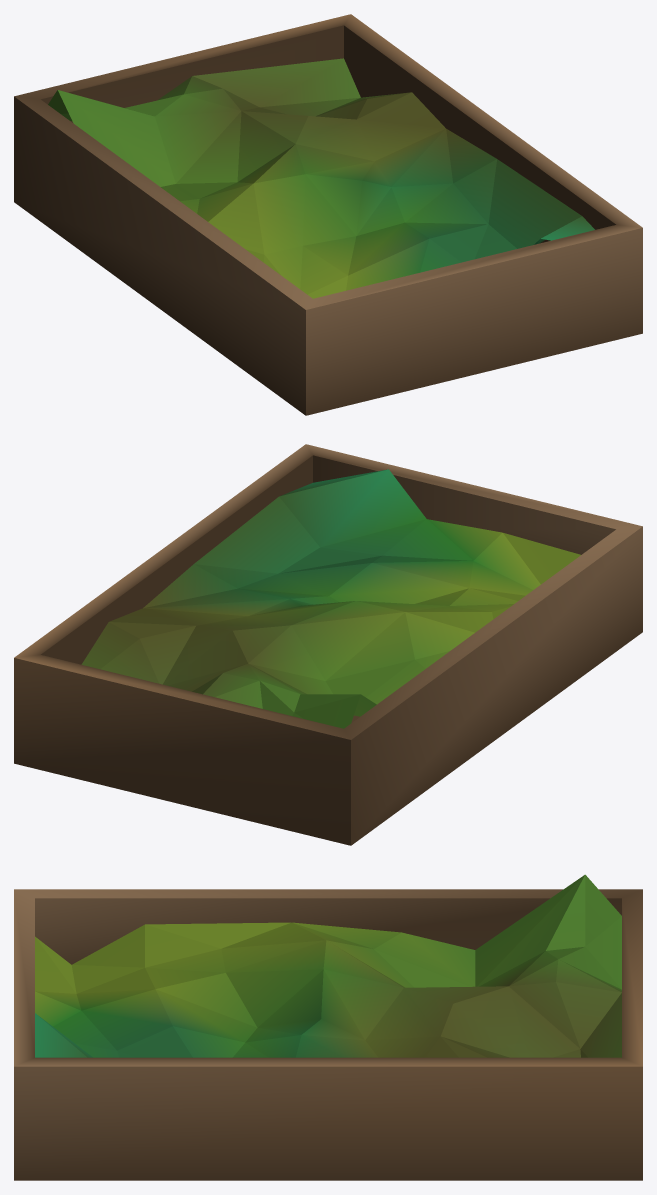
File: Prop_FoodBoxH.fbx
The picture shows the model from 3 angles, top to bottom: view 1: azimuth 30°, elevation 25°; view 2: azimuth 150°, elevation 25°; view 3: azimuth 270°, elevation 25°; orthographic projection. The views are drawn at different scales.
Parts seen in each view (by area): view 1: Prop_FoodBoxH; view 2: Prop_FoodBoxH; view 3: Prop_FoodBoxH.
Part boxes in pixels (x1,y1,x2,y2): Prop_FoodBoxH: (14, 14, 642, 415); Prop_FoodBoxH: (14, 444, 642, 845); Prop_FoodBoxH: (14, 874, 642, 1180).
Size of the model in its own units: 50 by 18.12 by 75.
